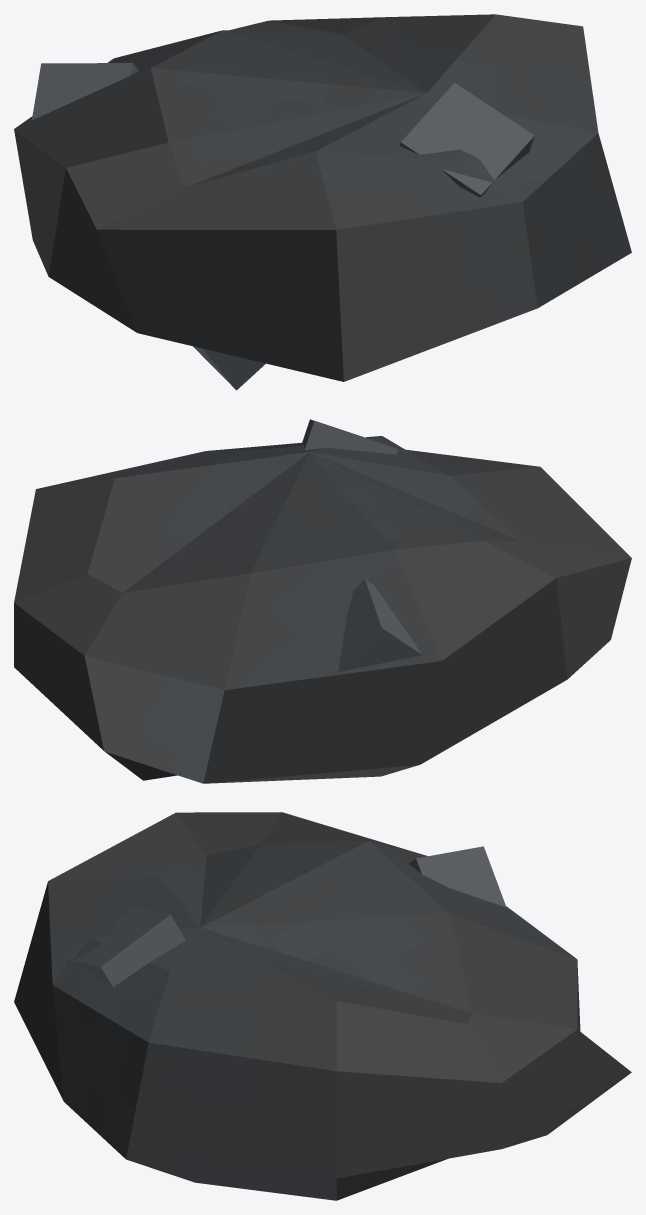
The model's file is meteor3.fbx.
The picture shows the model from 3 angles, top to bottom: view 1: azimuth 30°, elevation 25°; view 2: azimuth 150°, elevation 25°; view 3: azimuth 270°, elevation 25°; orthographic projection. The views are drawn at different scales.
Parts seen in each view (by area): view 1: sphere, cube_1, cube_2, cube; view 2: sphere, cube_2, cube_1; view 3: sphere, cube_1, cube_2.
Boxes of the visible parts, x1,y1,x2,y2 form: sphere: (14,14,631,381); cube_1: (399,82,534,197); cube_2: (32,63,138,119); cube: (193,346,265,390); sphere: (14,436,631,783); cube_2: (338,579,422,671); cube_1: (302,419,398,454); sphere: (14,812,631,1200); cube_1: (64,907,185,987); cube_2: (409,846,506,907).
Bounding box in the file's own units: 84.2 × 34.46 × 85.
1 material, 1 textured.
